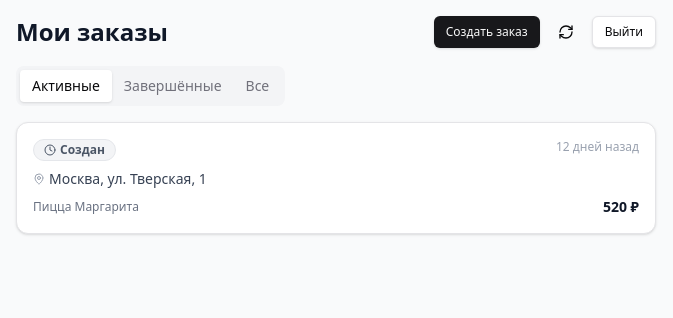
OrdersListPage › switching to Завершённые tab shows EmptyOrders completed variant when no completed orders
Expected: the text "Создан" is shown, [60, 142, 105, 158]
Click the tab "Завершённые" at point(173, 86), box [112, 70, 234, 102]
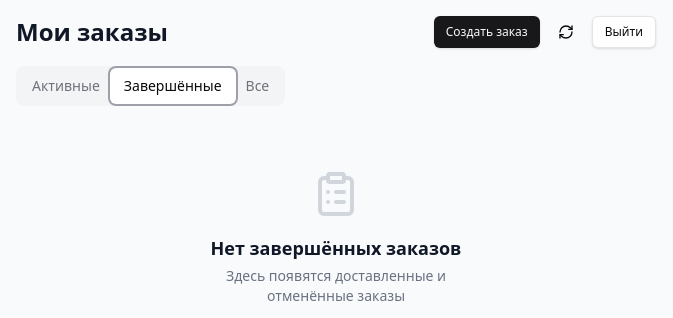
Now the heading "Нет завершённых заказов" is shown, box [210, 234, 461, 262]
Now the button "Создан" is gone
